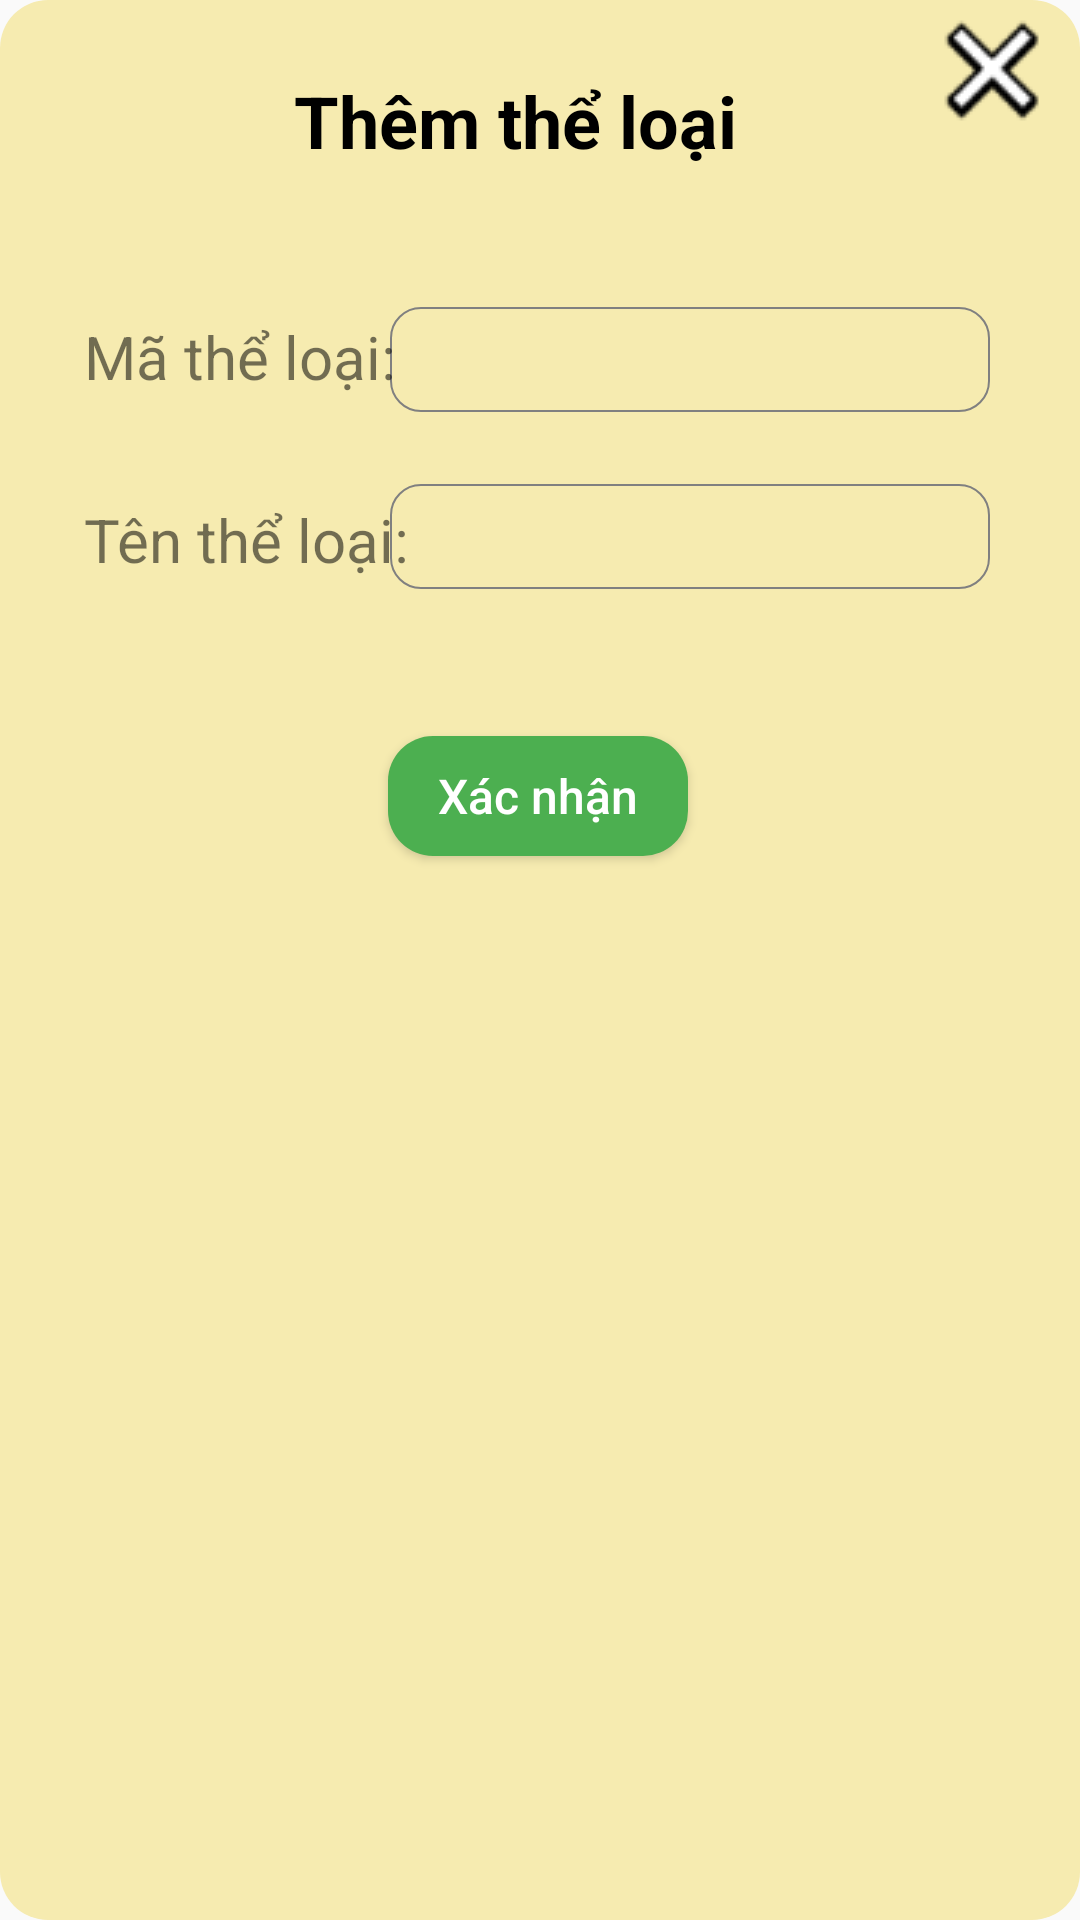

Named icons in this screenshot (1080px×1920px) and their centers, (x,y):
close: (992,70)
